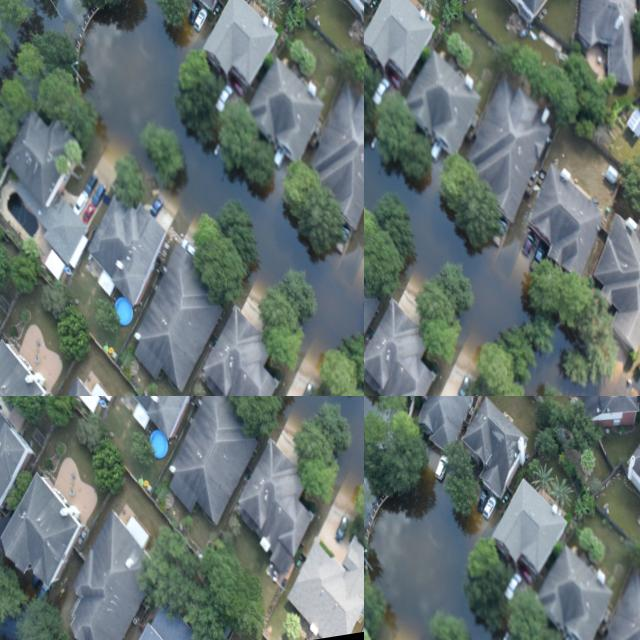fire: (364, 0, 640, 396), (253, 0, 364, 396), (369, 474, 499, 640)
